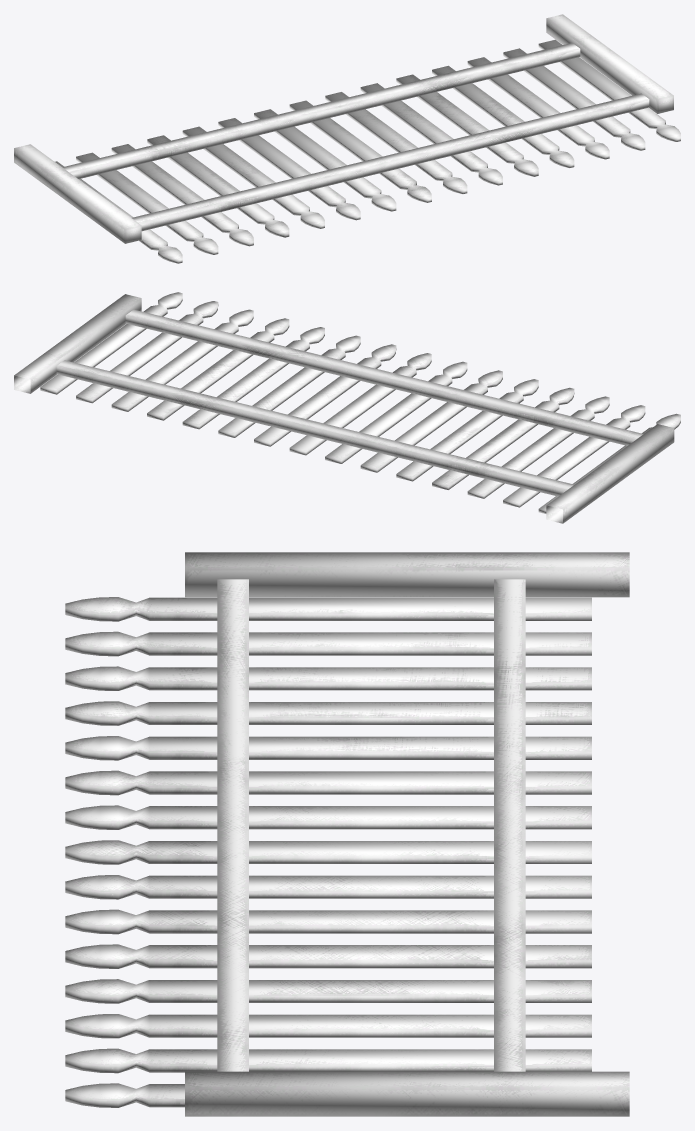
Rendered from Picket_Fence.obj.
The picture shows the model from 3 angles, top to bottom: view 1: azimuth 30°, elevation 25°; view 2: azimuth 150°, elevation 25°; view 3: azimuth 270°, elevation 25°; orthographic projection. The views are drawn at different scales.
Parts seen in each view (by area): view 1: Picket_Fence; view 2: Picket_Fence; view 3: Picket_Fence.
Part boxes in pixels (x1=…): Picket_Fence: x1=14, y1=14, x2=680, y2=263; Picket_Fence: x1=14, y1=292, x2=680, y2=523; Picket_Fence: x1=65, y1=552, x2=629, y2=1116.
Bounding box in the file's own units: 3.04 × 0.0948 × 1.35.
1 material, 1 textured.
